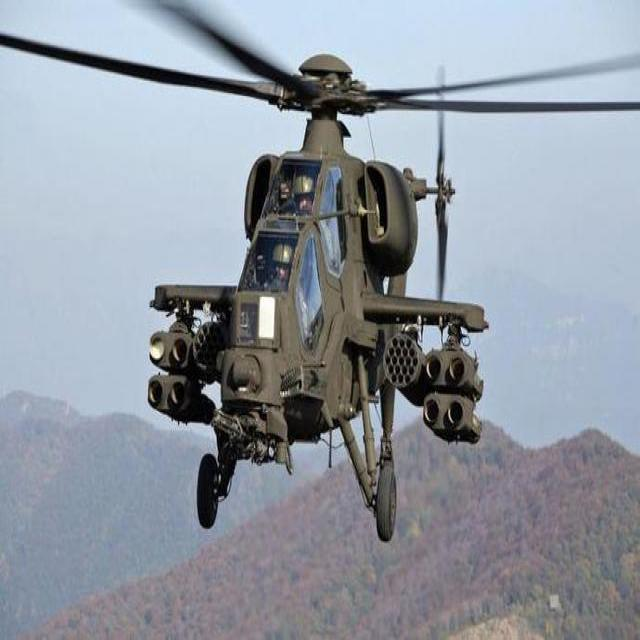MIL_HELO: (1, 0, 640, 544)
